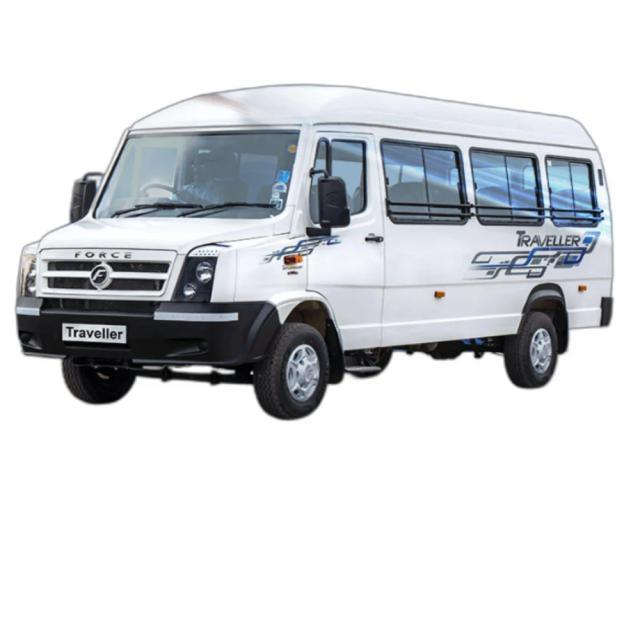Ambulance: (11, 80, 618, 422), (172, 144, 250, 210)
